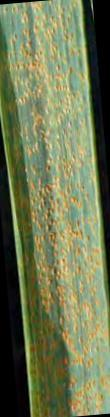Wheat: (34, 265, 103, 414), (8, 11, 83, 143), (17, 152, 87, 259)
